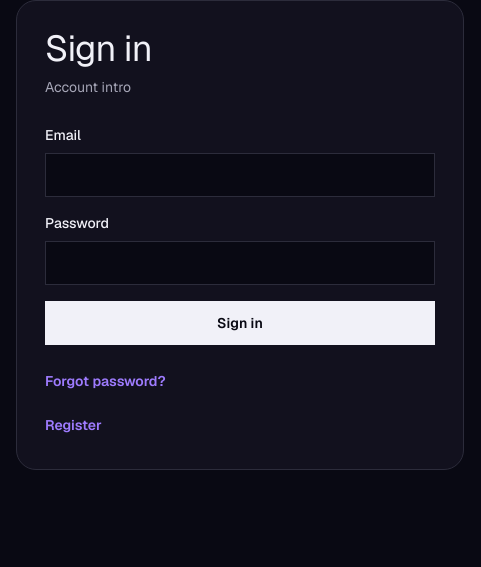
password sign-in and signup › checks password confirmation, then asks the reader to verify and sign in without starting a session
Click the button "Register" at (73, 425), box [45,409,102,441]
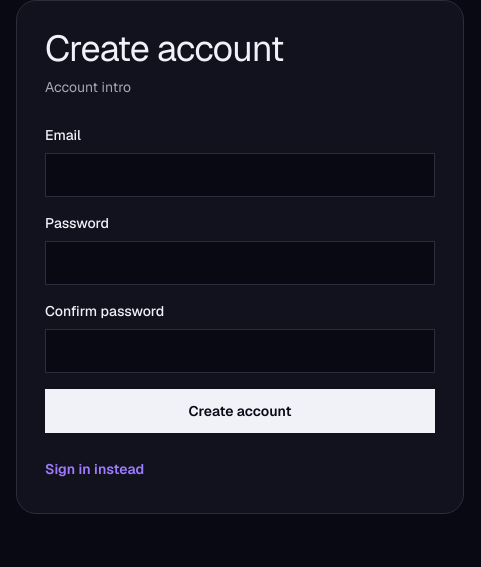
Type "reader@example.com" into the field labelled "Email" at (240, 175), box [45,153,435,197]
Type "correct-password" into the password field labelled "Password" at (240, 263), box [45,241,435,285]
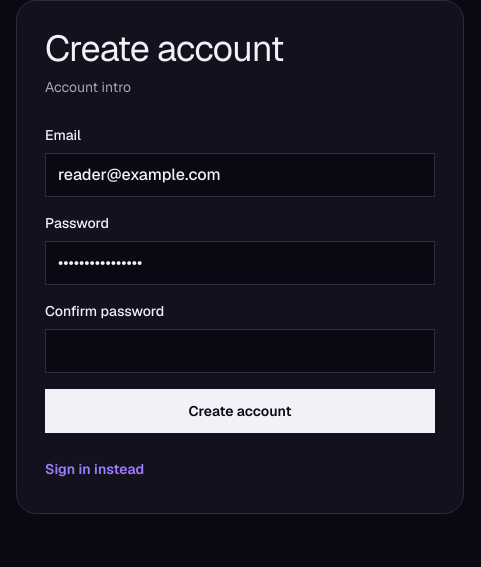
Type "different-password" into the password field labelled "Confirm password" at (240, 351), box [45,329,435,373]
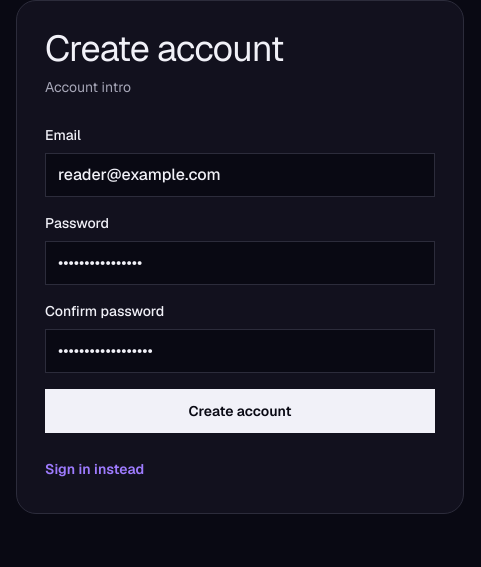
Click the button "Create account" at (240, 411), box [45,389,435,433]
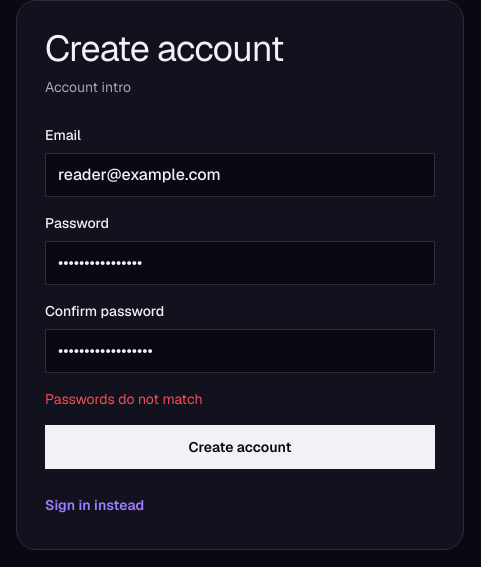
Now the message reads "Passwords do not match", box [45,390,202,408]
Type "correct-password" into the password field labelled "Confirm password" at (240, 351), box [45,329,435,373]
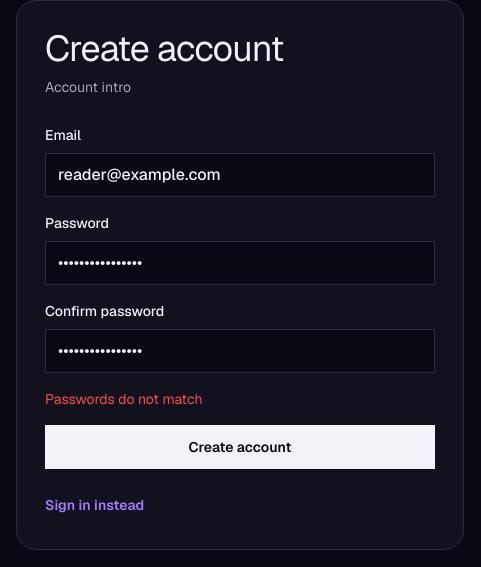
Click the button "Create account" at (240, 447), box [45,425,435,469]
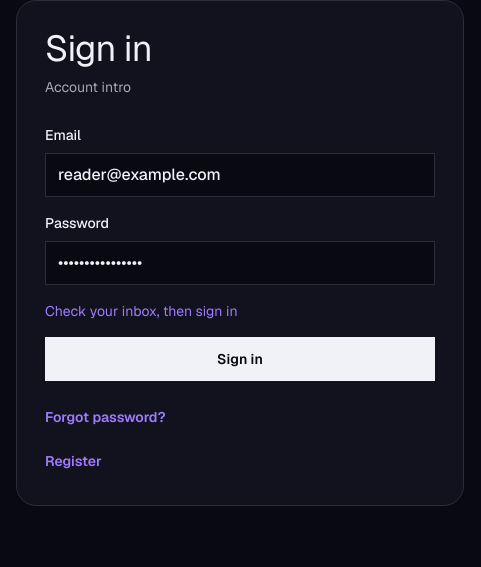
Now the message reads "Check your inbox, then sign in", box [45,302,238,320]
Now the heading "Sign in" is shown, box [45,25,152,72]
